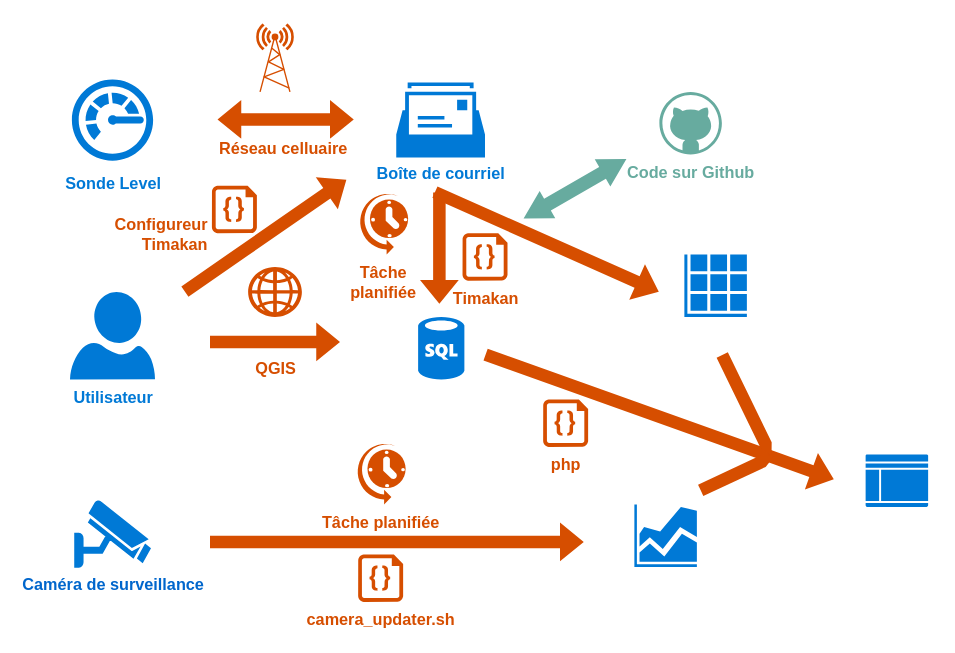
Image size: 955x653. Some labels were removed from this diagram. The centre of each missing label's shape, as x and y in pixels:
CSV: pixel 715 285
Image jpeg: pixel 665 535
Page web: pixel 896 480
Postgres: pixel 441 347
